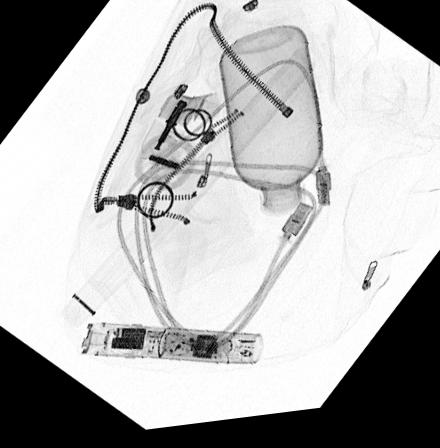Baton: (80, 324, 267, 371)
